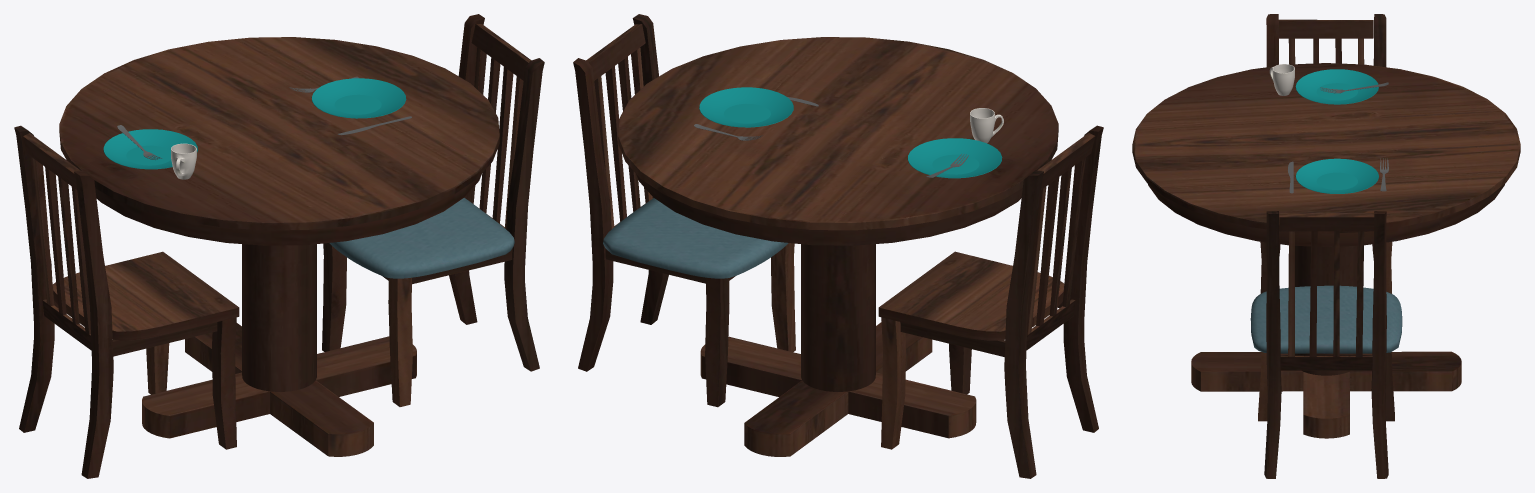
Rendered from table.glb.
3 views of the same model, side by side, from view 1: azimuth 30°, elevation 25°; view 2: azimuth 150°, elevation 25°; view 3: azimuth 270°, elevation 25° (orthographic). The views are drawn at different scales.
Visible parts, largest first — view 1: Object_4, Object_6, Object_8, Object_12, Object_22, Object_10; view 2: Object_4, Object_6, Object_8, Object_12, Object_22, Object_10; view 3: Object_4, Object_8, Object_6, Object_12, Object_22, Object_10.
Part boxes in pixels (x1,y1,x2,y2): Object_4: (59,37,499,456); Object_6: (14,125,239,478); Object_8: (322,14,544,406); Object_12: (311,78,406,118); Object_22: (103,129,197,169); Object_10: (171,143,196,179); Object_4: (618,37,1058,456); Object_6: (878,125,1103,478); Object_8: (573,14,795,407); Object_12: (699,87,793,127); Object_22: (907,138,1002,178); Object_10: (970,108,1003,143); Object_4: (1132,63,1520,438); Object_8: (1250,211,1402,478); Object_6: (1260,14,1392,293); Object_12: (1295,158,1378,193); Object_22: (1295,69,1378,104); Object_10: (1269,64,1294,95).
Size of what is drawn, in the model's own units: 1.44 by 0.8968 by 1.18.
Materials: 6 (5 with a texture image).
